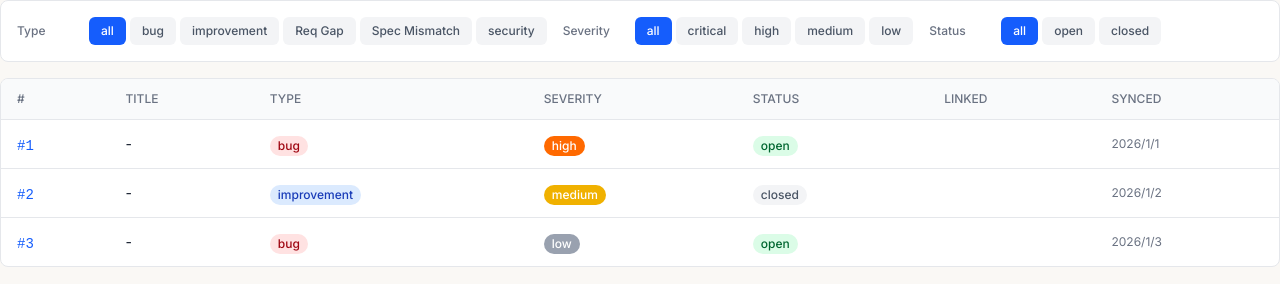
Test: FeedbackClientView › 複数フィルタのAND条件で絞り込みができる
The image size is (1280, 284).
What coordinates should you click on to do the following:
click the button with test id "filter-type-bug"
I would click on:
 (153, 31)
Its box is x1=130 y1=17 x2=176 y2=45.
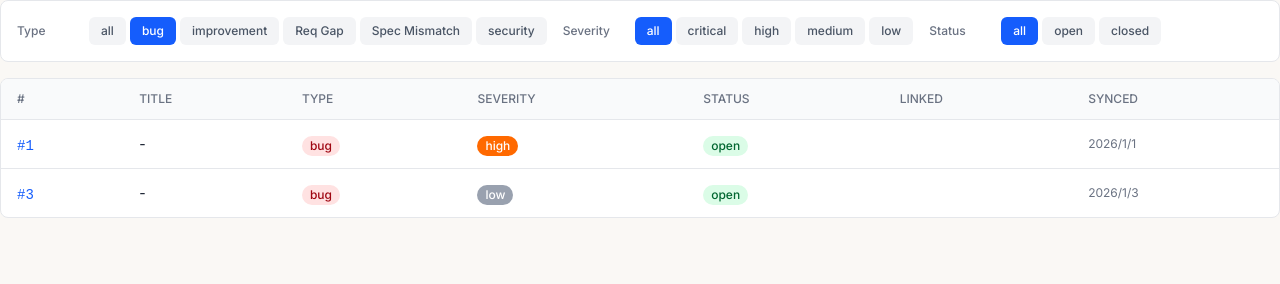
What coordinates should you click on to do the following:
click the button with test id "filter-severity-high"
I would click on:
 (767, 31)
Its box is x1=742 y1=17 x2=791 y2=45.
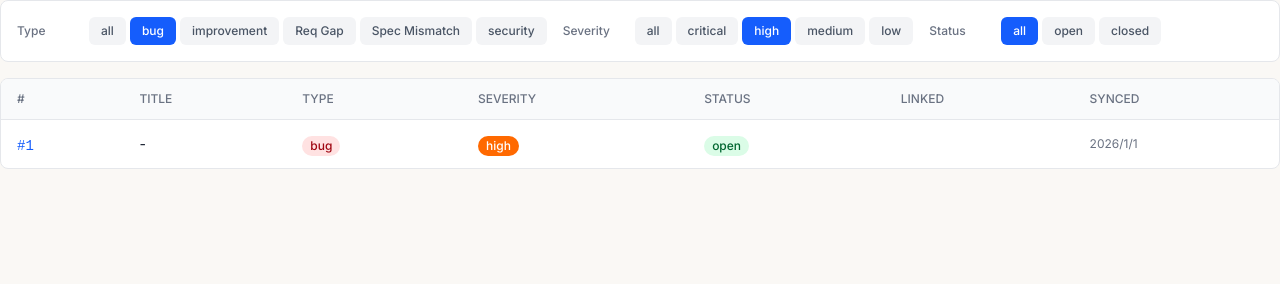
expect the text with test id "feedback-issue" reads "#1": met, box x1=17 y1=138 x2=34 y2=154
expect the number of rows with test id "feedback-row" is 1: met, box x1=1 y1=120 x2=1279 y2=168
